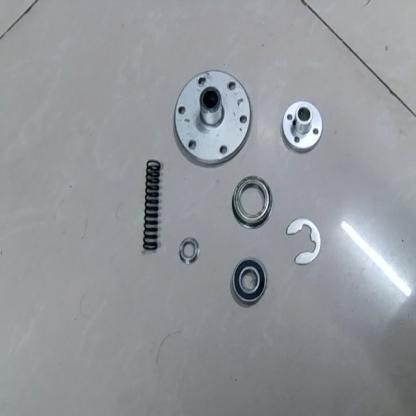FOD: (172, 64, 253, 170), (280, 96, 324, 154), (231, 174, 273, 230), (230, 255, 268, 308), (286, 213, 322, 268), (142, 154, 161, 254), (179, 234, 201, 266)
